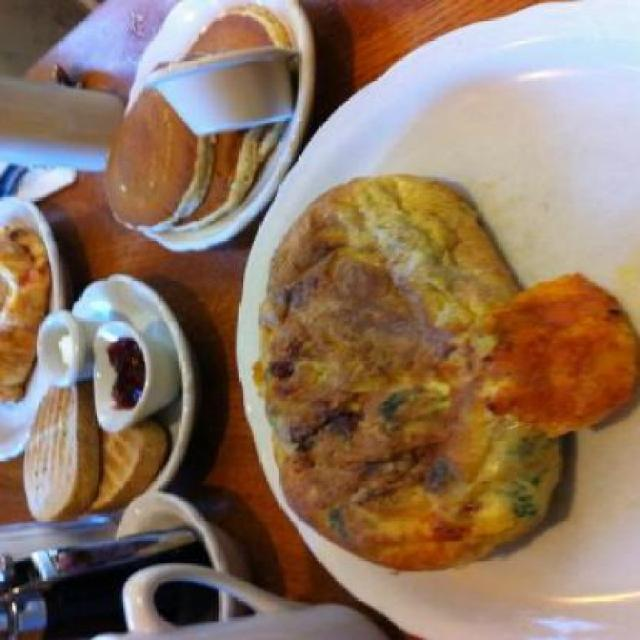ice cream: (41, 317, 87, 375)
omelette: (270, 159, 550, 572), (1, 211, 56, 392)
